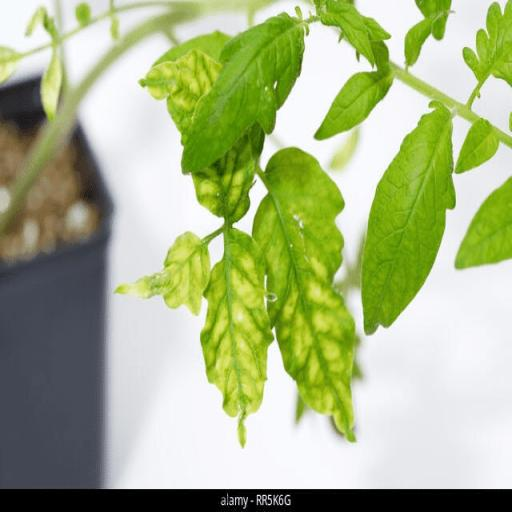disease_tomato: (249, 142, 359, 450), (135, 46, 256, 222), (200, 224, 276, 450), (110, 226, 212, 316)
